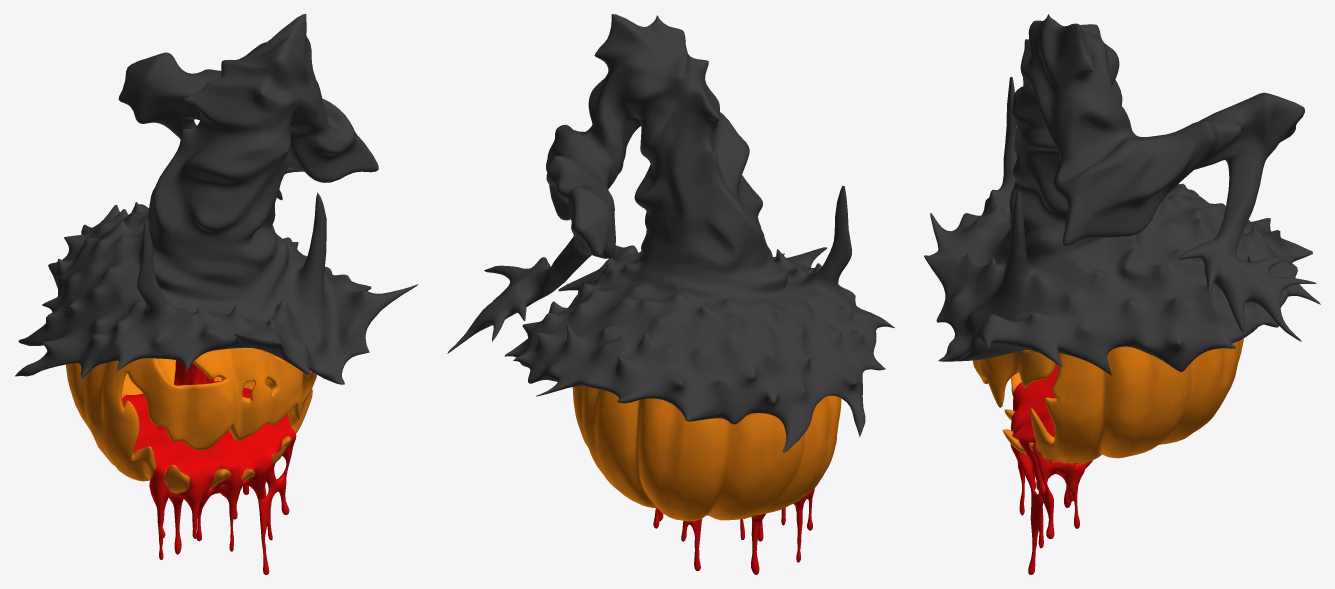
Rendered from halloween_pumpkin_with_hat.gltf.
3 renders of one model, left to right at view 1: azimuth 30°, elevation 25°; view 2: azimuth 150°, elevation 25°; view 3: azimuth 270°, elevation 25°, orthographic. The views are drawn at different scales.
Size of the model in its own units: 0.5299 by 0.8 by 0.4952.
Materials: 1 (1 with a texture image).
